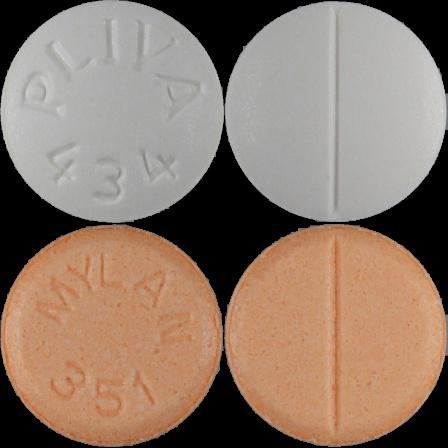0615-2579: (0, 0, 224, 224)
